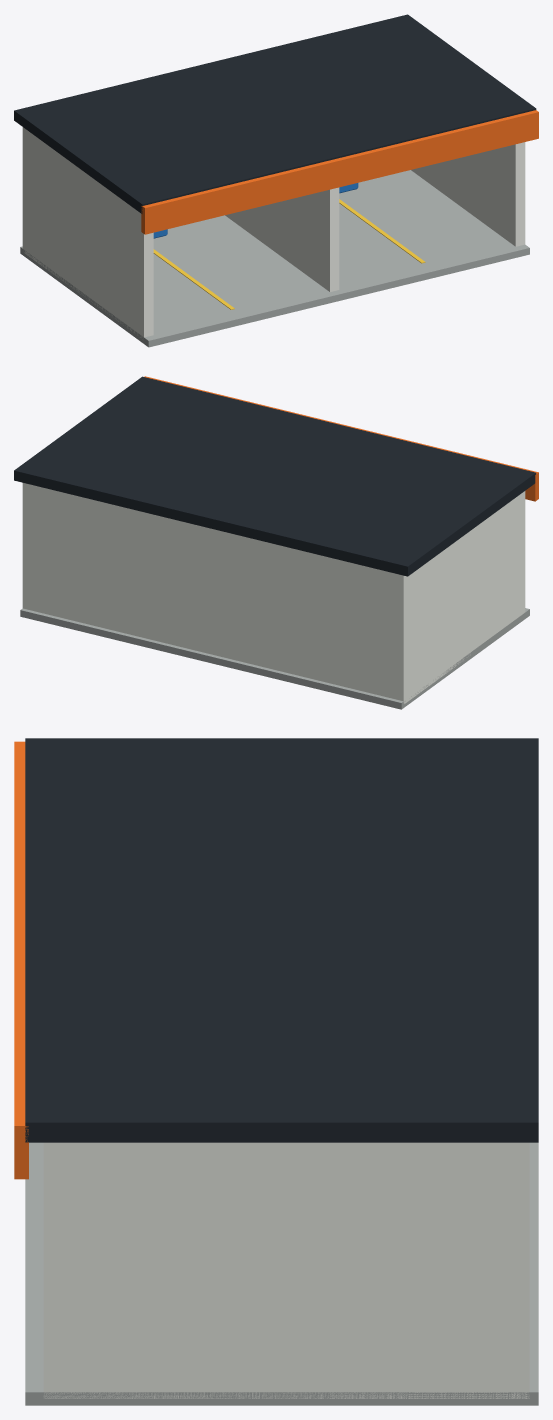
The model's file is pit_garage.glb.
The picture shows the model from 3 angles, top to bottom: view 1: azimuth 30°, elevation 25°; view 2: azimuth 150°, elevation 25°; view 3: azimuth 270°, elevation 25°; orthographic projection. The views are drawn at different scales.
Visible parts, largest first — view 1: pit_garage__static; view 2: pit_garage__static; view 3: pit_garage__static.
Part boxes in pixels (x1,y1,x2,y2): pit_garage__static: [14, 14, 538, 347]; pit_garage__static: [14, 376, 538, 709]; pit_garage__static: [14, 738, 538, 1405].
Bounding box in the file's own units: 12.4 × 4.35 × 7.15.
